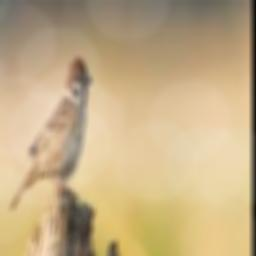Sparrow: (9, 56, 91, 211)
